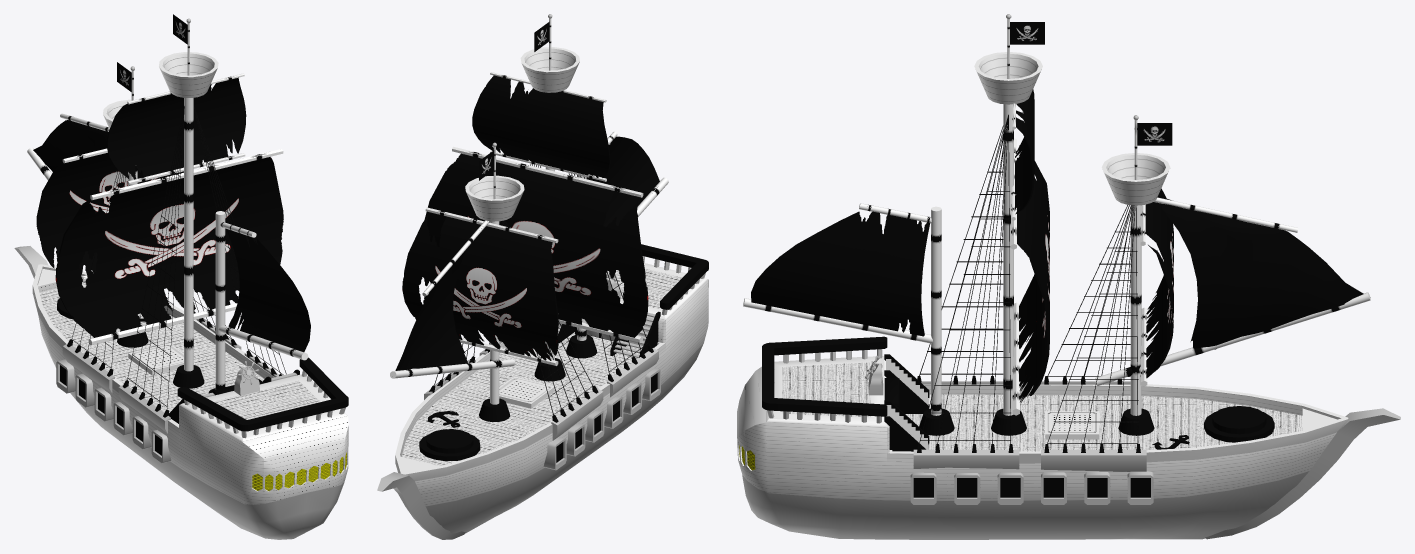
File: HumanShip2.FBX
The picture shows the model from 3 angles, left to right: view 1: azimuth 30°, elevation 25°; view 2: azimuth 150°, elevation 25°; view 3: azimuth 270°, elevation 25°; orthographic projection. The views are drawn at different scales.
Visible parts, largest first — view 1: NewHumanShip; view 2: NewHumanShip; view 3: NewHumanShip.
Boxes of the visible parts, x1,y1,x2,y2 form: NewHumanShip: [14, 14, 348, 539]; NewHumanShip: [377, 14, 708, 539]; NewHumanShip: [737, 14, 1400, 539].
Bounding box in the file's own units: 2759 × 6119 × 5342.
